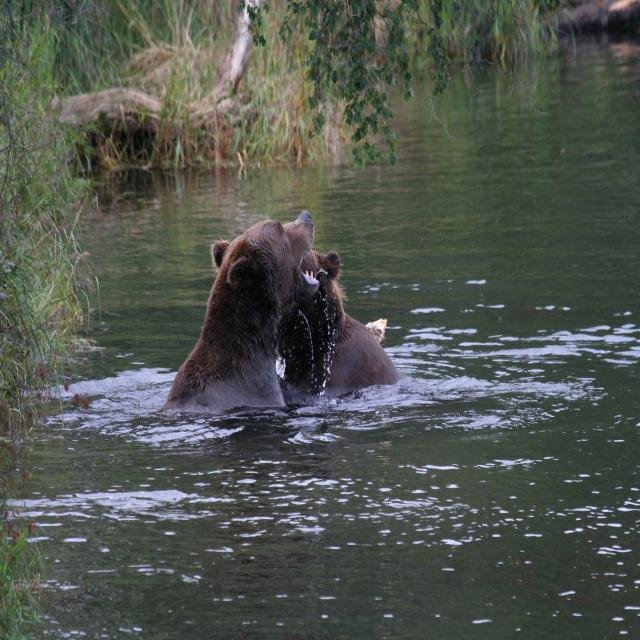bear face: (180, 211, 321, 404), (282, 248, 399, 372)
